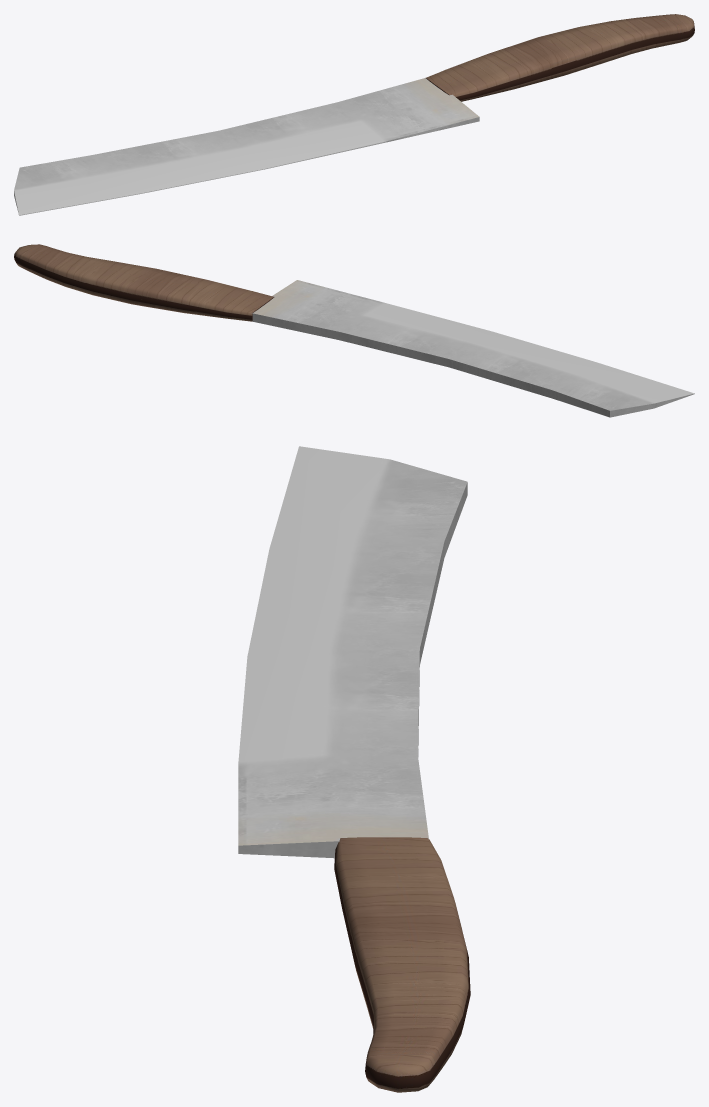
File: Machete.fbx
The picture shows the model from 3 angles, top to bottom: view 1: azimuth 30°, elevation 25°; view 2: azimuth 150°, elevation 25°; view 3: azimuth 270°, elevation 25°; orthographic projection. The views are drawn at different scales.
Parts seen in each view (by area): view 1: Faca; view 2: Faca; view 3: Faca.
Part boxes in pixels (bbox=[...]): Faca: bbox=[14, 14, 694, 215]; Faca: bbox=[14, 244, 694, 417]; Faca: bbox=[238, 446, 470, 1092].
Bounding box in the file's own units: 37.29 × 1.07 × 5.75.
